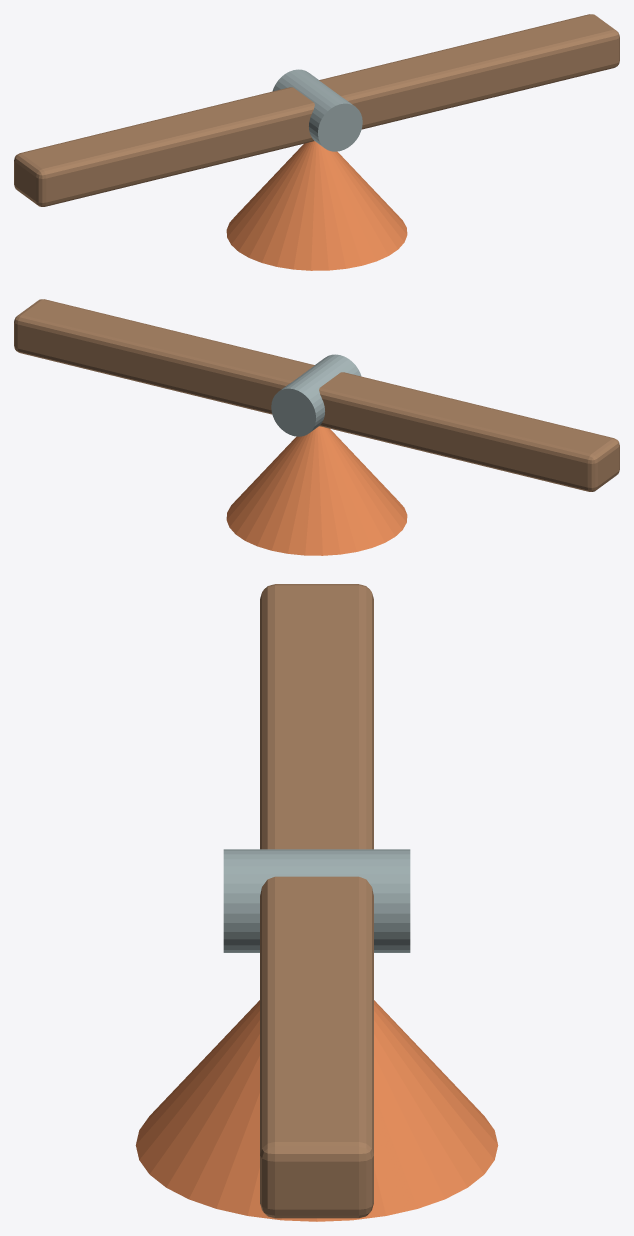
The model's file is lever.glb.
3 views of the same model, one above another, from view 1: azimuth 30°, elevation 25°; view 2: azimuth 150°, elevation 25°; view 3: azimuth 270°, elevation 25° (orthographic). The views are drawn at different scales.
Parts seen in each view (by area): view 1: Lever_Beam, Fulcrum, Pivot_Pin; view 2: Lever_Beam, Fulcrum, Pivot_Pin; view 3: Lever_Beam, Fulcrum, Pivot_Pin.
Part boxes in pixels (x1,y1,x2,y2): Lever_Beam: [14, 14, 619, 206]; Fulcrum: [226, 141, 407, 270]; Pivot_Pin: [272, 69, 362, 151]; Lever_Beam: [14, 299, 619, 491]; Fulcrum: [226, 426, 407, 555]; Pivot_Pin: [271, 354, 361, 436]; Lever_Beam: [260, 584, 373, 1218]; Fulcrum: [135, 1000, 498, 1221]; Pivot_Pin: [223, 849, 410, 952].
Bounding box in the file's own units: 2.6 × 0.62 × 0.7.
